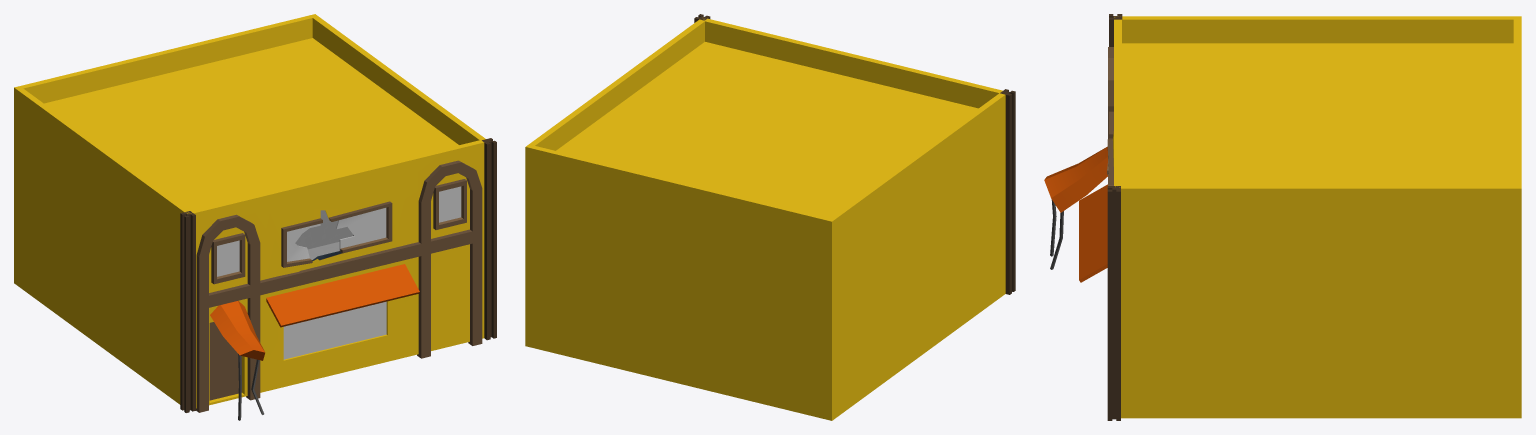
File: edificio_angolo.fbx
3 renders of one model, left to right at view 1: azimuth 30°, elevation 25°; view 2: azimuth 150°, elevation 25°; view 3: azimuth 270°, elevation 25°, orthographic. The views are drawn at different scales.
Parts seen in each view (by area): view 1: edificio2, cornici, pensilina_lunga, angolo1, angolo, pensilina, interno; view 2: edificio2, angolo1; view 3: edificio2, angolo, pensilina_lunga, pensilina, cornici.
Part boxes in pixels (x1,y1,x2,y2): edificio2: (14, 14, 485, 408); cornici: (196, 160, 482, 412); pensilina_lunga: (266, 264, 419, 327); angolo1: (180, 211, 195, 412); angolo: (482, 138, 496, 340); pensilina: (210, 300, 265, 360); interno: (295, 210, 353, 259); edificio2: (525, 18, 1005, 420); angolo1: (1000, 89, 1015, 294); edificio2: (1107, 16, 1521, 418); angolo: (1107, 186, 1120, 420); pensilina_lunga: (1079, 184, 1107, 282); pensilina: (1044, 146, 1107, 212); cornici: (1108, 47, 1113, 185).
Size of the model in its own units: 31.39 by 19.16 by 35.69.
